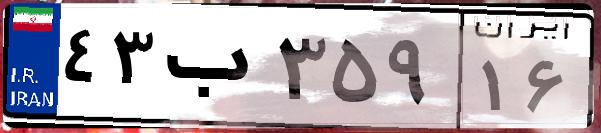1: (475, 38, 525, 113)
3: (270, 28, 330, 110), (110, 28, 158, 98)
4: (57, 26, 110, 100)
5: (330, 28, 385, 110)
6: (525, 38, 570, 115)
9: (385, 28, 445, 110)
ب: (158, 20, 270, 120)
